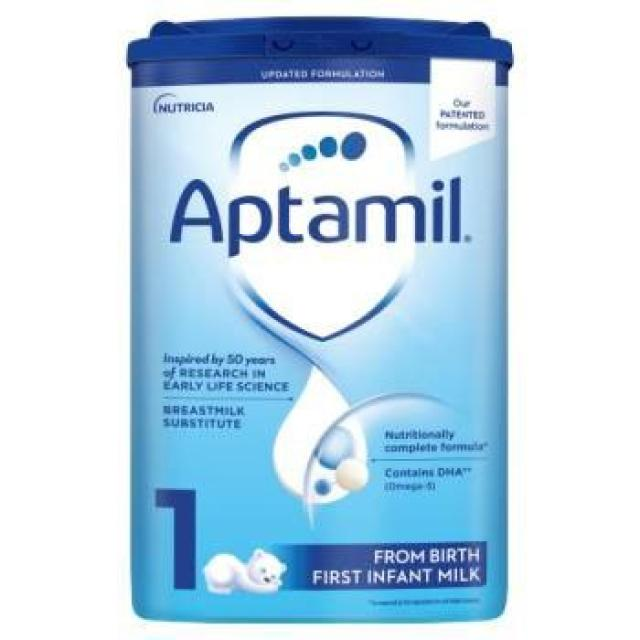formula-milk: (143, 58, 495, 620)
